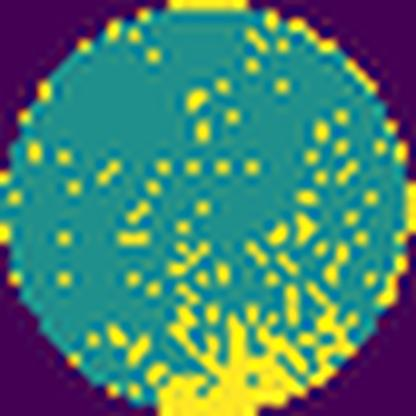Edge-Loc: (160, 266, 364, 415)
